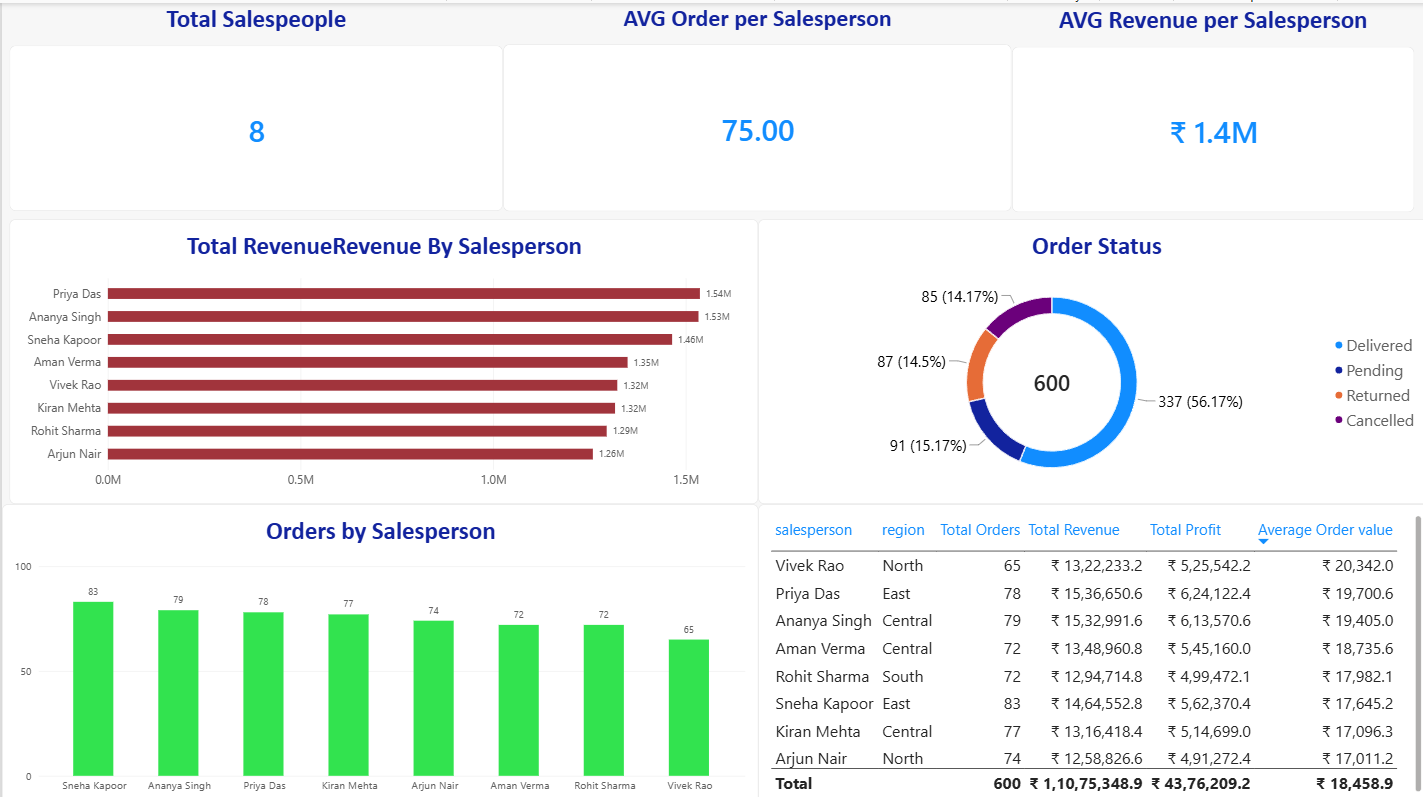

The page's visual inventory and layout, read from the dashboard file:
{"tool":"powerbi","page":{"name":"Sales Team","canvas":[1920,1080],"ordinal":3},"visuals":[{"type":"cardVisual","title":"Total Salespeople","fields":{"Data":["Orders.Total Salespeople"]},"box":[10,0,661.6,279.7],"z":0},{"type":"cardVisual","title":"AVG Order per Salesperson","fields":{"Data":["Orders.Avg Orders per Salesperson"]},"box":[671.7,0,681.7,279.7],"z":1},{"type":"cardVisual","title":"AVG Revenue per Salesperson","fields":{"Data":["Orders.Avg Revenue per Salesperson"]},"box":[1353.4,1.7,539.3,279.7],"z":2},{"type":"clusteredBarChart","title":"Total RevenueRevenue By Salesperson","fields":{"Category":["Employees.salesperson"],"Y":["Order_Items.Total Revenue"]},"box":[10,289.8,1003.3,381.9],"z":3},{"type":"donutChart","title":"Order Status","fields":{"Category":["Orders.order_status"],"Y":["Order_Items.Total Orders"]},"box":[1013.3,289.8,906.1,381.9],"z":4},{"type":"clusteredColumnChart","title":"Orders by Salesperson","fields":{"Category":["Employees.salesperson"],"Y":["Order_Items.Total Orders"]},"box":[0,671.7,1013.3,408.7],"z":5},{"type":"tableEx","fields":{"Values":["Orders.salesperson","Employees.region","Order_Items.Total Orders","Order_Items.Total Revenue","Order_Items.Total Profit","Order_Items.Average Order value"]},"box":[1013.3,671.7,906.1,408.7],"z":6},{"type":"pageNavigator","box":[1118.9,51.9,800,50],"z":7}]}

Visuals, with their boxes in screenshot pixels (x1, y1, x2, y2), scaled from the page's 1920x1080 canvas onto the 1423x797 screenshot:
"Total Salespeople" cardVisual: box(7, 0, 498, 206)
"AVG Order per Salesperson" cardVisual: box(498, 0, 1003, 206)
"AVG Revenue per Salesperson" cardVisual: box(1003, 1, 1403, 208)
"Total RevenueRevenue By Salesperson" clusteredBarChart: box(7, 214, 751, 496)
"Order Status" donutChart: box(751, 214, 1422, 496)
"Orders by Salesperson" clusteredColumnChart: box(0, 496, 751, 796)
tableEx - Orders.salesperson x Employees.region: box(751, 496, 1422, 796)
pageNavigator: box(829, 38, 1422, 75)
